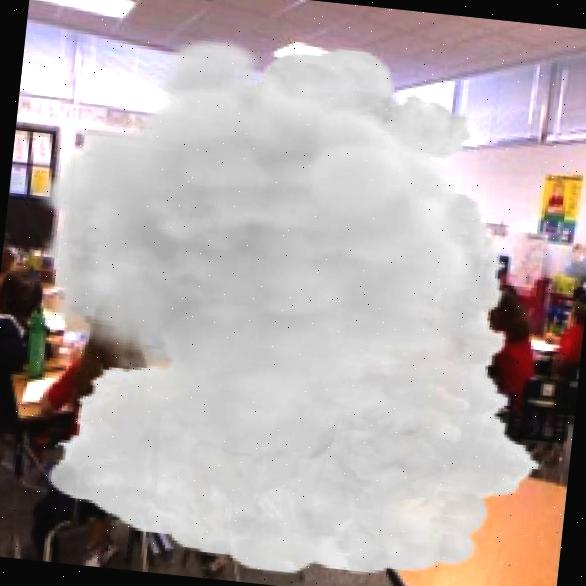smoke: (0, 16, 586, 586)
